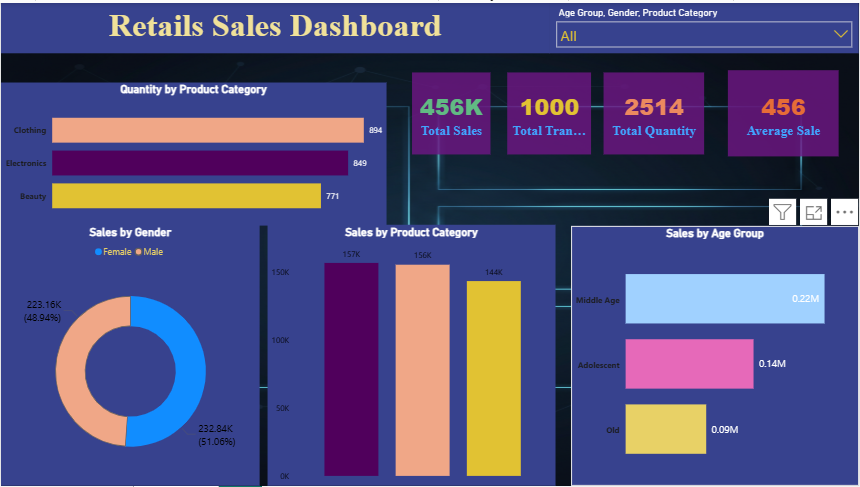

What the dashboard file says about the page in this screenshot:
{"tool":"powerbi","page":{"name":"Page 1","canvas":[1280,720],"ordinal":0},"visuals":[{"type":"card","fields":{"Values":["Retail Sales Data Set.Total Sales"]},"box":[613,103.6,116.9,121.9],"z":0},{"type":"card","fields":{"Values":["Retail Sales Data Set.Total Quantity"]},"box":[898.7,103.6,150.3,121.9],"z":1000},{"type":"card","fields":{"Values":["Retail Sales Data Set.Total Transactions"]},"box":[755,103.6,125.3,121.9],"z":2000},{"type":"card","fields":{"Values":["Retail Sales Data Set.Average Sale"]},"box":[1084.1,100.2,165.4,128.6],"z":3000},{"type":"clusteredColumnChart","title":" Sales by Product Category","fields":{"Category":["Retail Sales Data Set.Product Category"],"Y":["Retail Sales Data Set.Total Sales"]},"box":[397.6,330.7,429.3,389.2],"z":4000},{"type":"donutChart","title":" Sales by Gender","fields":{"Category":["Retail Sales Data Set.Gender"],"Y":["Retail Sales Data Set.Total Sales"]},"box":[0,330.7,385.9,389.2],"z":5000},{"type":"clusteredBarChart","title":" Sales by Age Group","fields":{"Category":["Retail Sales Data Set.Age Group"],"Y":["Retail Sales Data Set.Total Sales"]},"box":[850.2,332.4,429.3,387.5],"z":6000},{"type":"clusteredBarChart","title":" Quantity by Product Category","fields":{"Category":["Retail Sales Data Set.Product Category"],"Y":["Retail Sales Data Set.Total Quantity"]},"box":[0,118.6,574.6,213.8],"z":7000},{"type":"slicer","fields":{"Values":["Retail Sales Data Set.Age Group","Retail Sales Data Set.Gender","Retail Sales Data Set.Product Category"]},"box":[818.5,0,461,75.2],"z":8000},{"type":"textbox","box":[0,0,818.5,75.2],"z":9000}]}

Visuals, with their boxes in screenshot pixels (x1, y1, x2, y2), scaled from the page's 1280x720 canvas onto the 860x487 screenshot:
card - Retail Sales Data Set.Total Sales: (left=412, top=70, right=490, bottom=153)
card - Retail Sales Data Set.Total Quantity: (left=604, top=70, right=705, bottom=153)
card - Retail Sales Data Set.Total Transactions: (left=507, top=70, right=591, bottom=153)
card - Retail Sales Data Set.Average Sale: (left=728, top=68, right=840, bottom=155)
" Sales by Product Category" clusteredColumnChart: (left=267, top=224, right=556, bottom=486)
" Sales by Gender" donutChart: (left=0, top=224, right=259, bottom=486)
" Sales by Age Group" clusteredBarChart: (left=571, top=225, right=859, bottom=486)
" Quantity by Product Category" clusteredBarChart: (left=0, top=80, right=386, bottom=225)
slicer - Retail Sales Data Set.Age Group x Retail Sales Data Set.Gender: (left=550, top=0, right=859, bottom=51)
textbox: (left=0, top=0, right=550, bottom=51)
